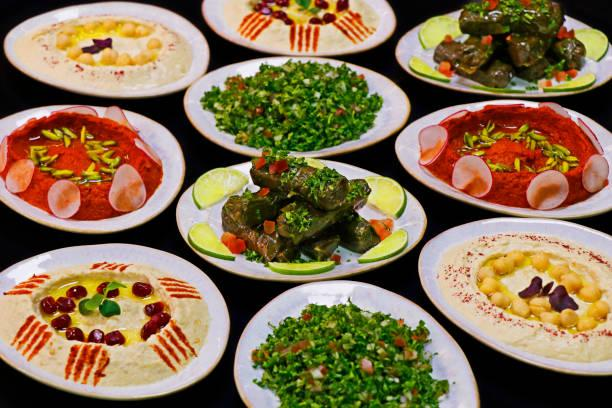Braised Crucian Carp: (0, 244, 225, 401), (417, 215, 611, 374), (175, 157, 421, 282), (231, 281, 473, 406), (394, 100, 607, 220), (3, 104, 187, 235), (183, 56, 407, 159), (3, 1, 206, 98), (394, 7, 607, 98), (202, 0, 395, 56)
